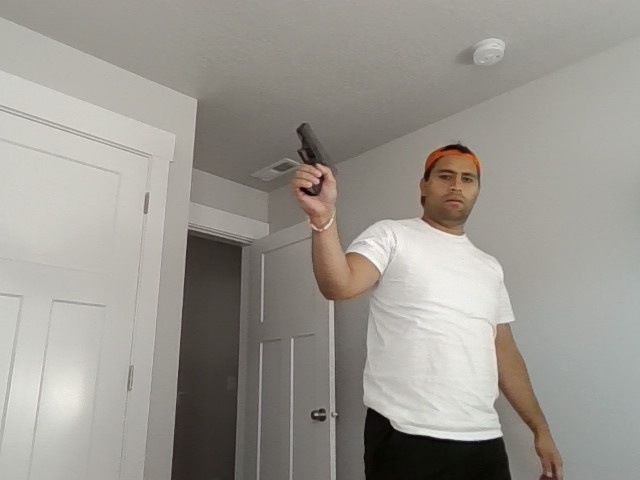handgun: (295, 120, 338, 196)
